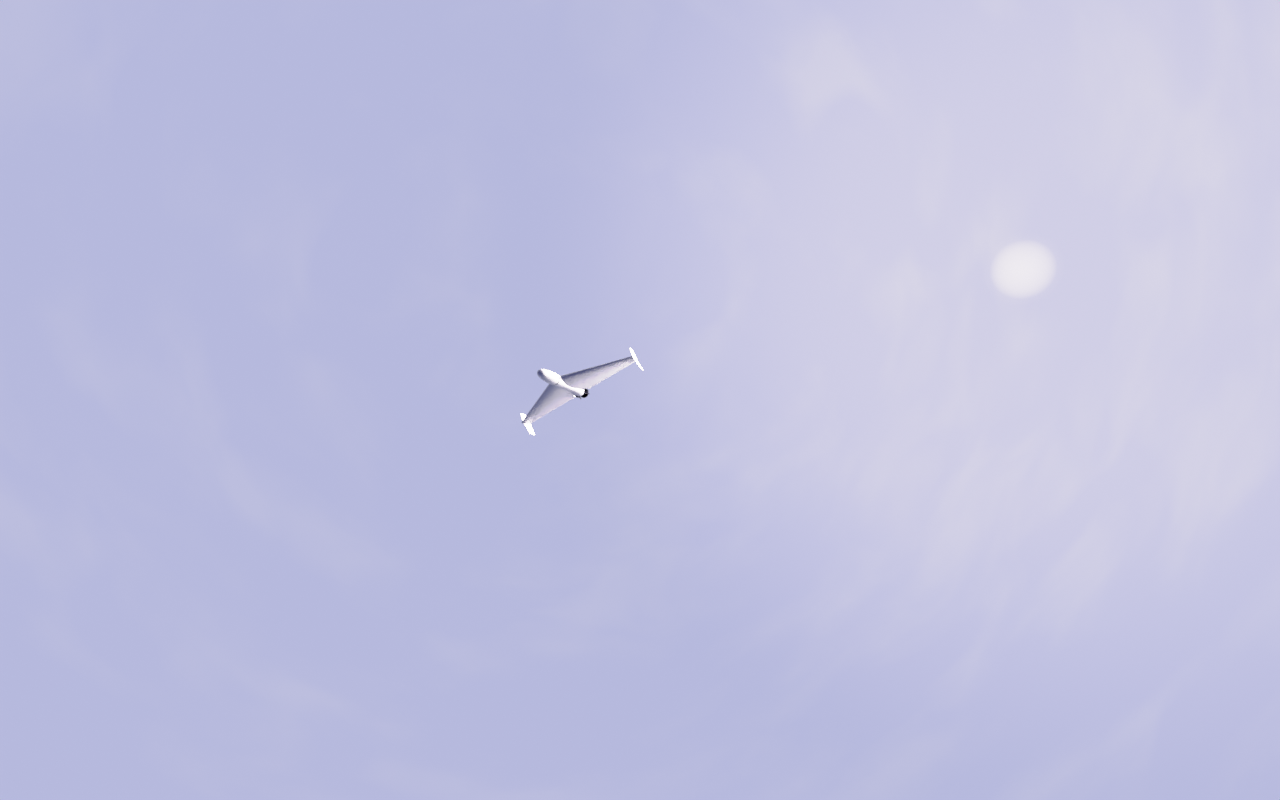shahed: (520, 348, 646, 437)
